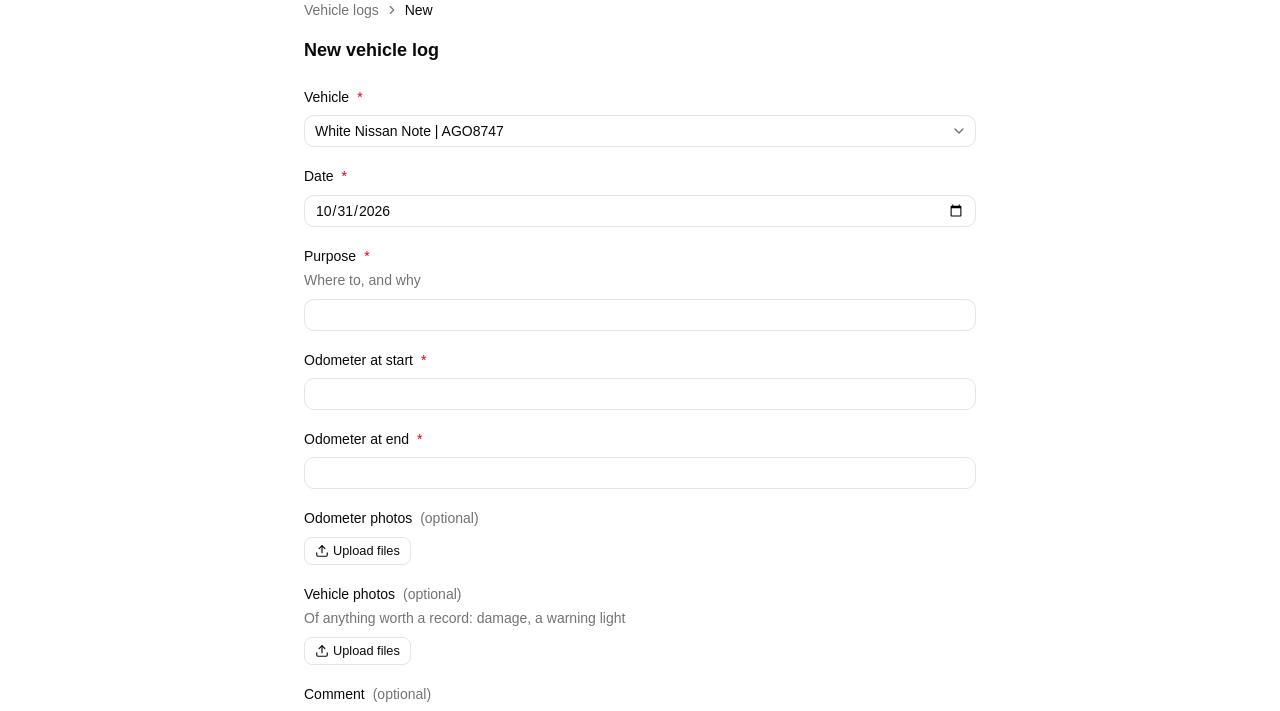
a form you give up on asks first if you typed anything, and saves nothing
Step 1. Type "Client visit" into the field labelled "Purpose *" → (640, 315), box top-left (304, 299), bottom-right (976, 331)
(page scrolled)
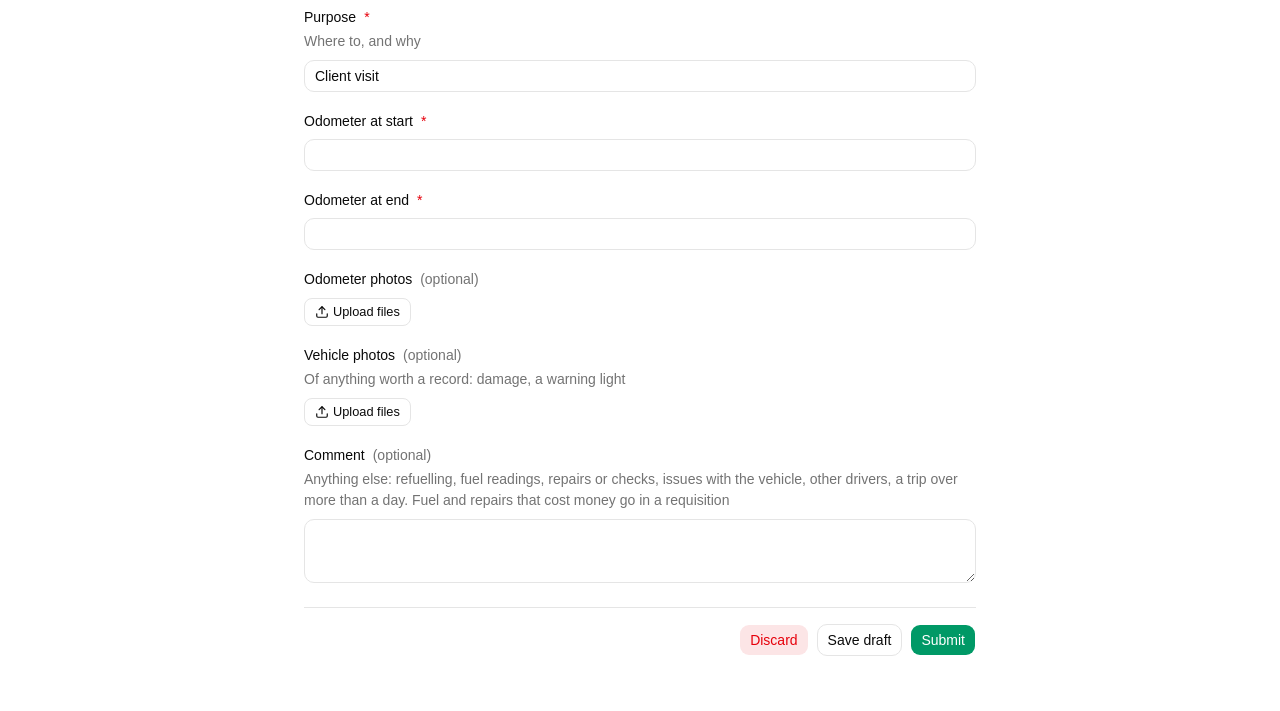
Step 2. Click the button "Discard" → click(774, 640), box top-left (739, 624), bottom-right (809, 656)
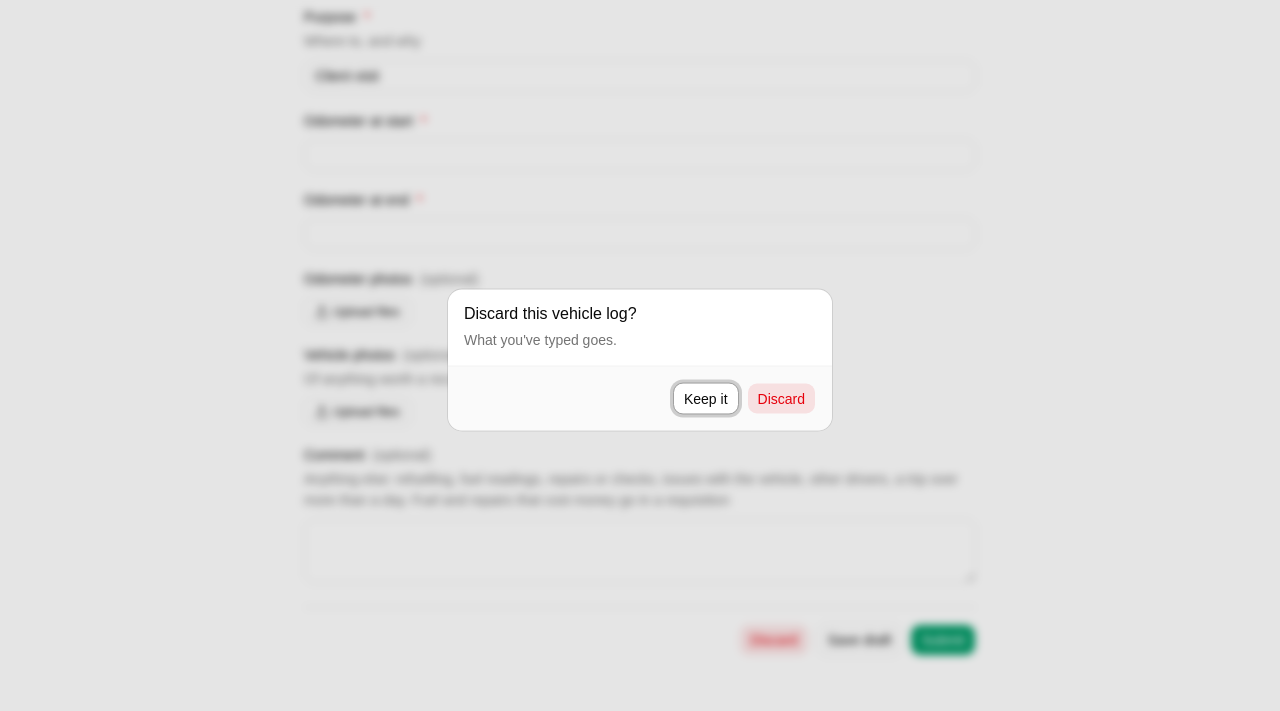
Result: the heading "Discard this vehicle log?" is shown at top-left (464, 304), bottom-right (636, 322)
